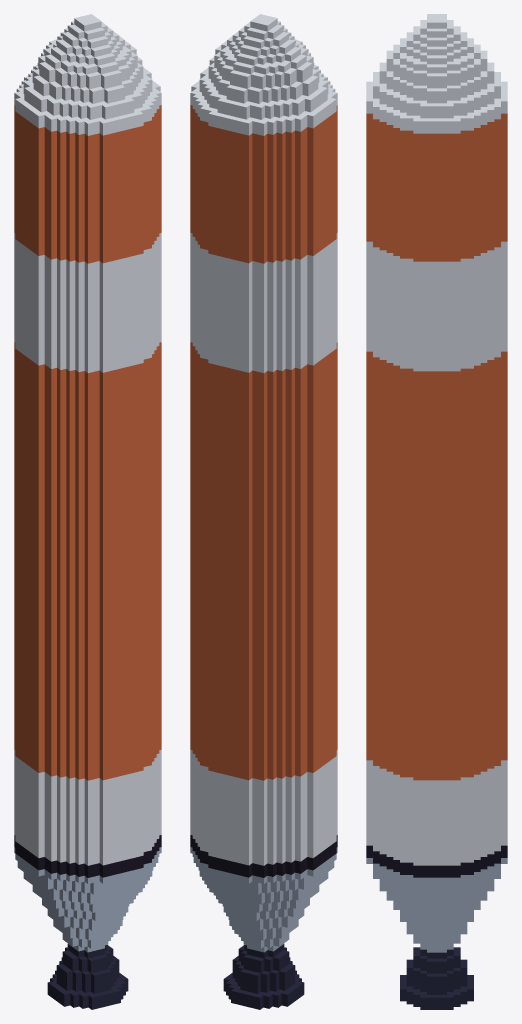
The model's file is Lake_IV_booster.obj.
The picture shows the model from 3 angles, left to right: view 1: azimuth 30°, elevation 25°; view 2: azimuth 150°, elevation 25°; view 3: azimuth 270°, elevation 25°; orthographic projection.
Bounding box in the file's own units: 2.1 × 16 × 2.1.
Materials: 1 (1 with a texture image).
